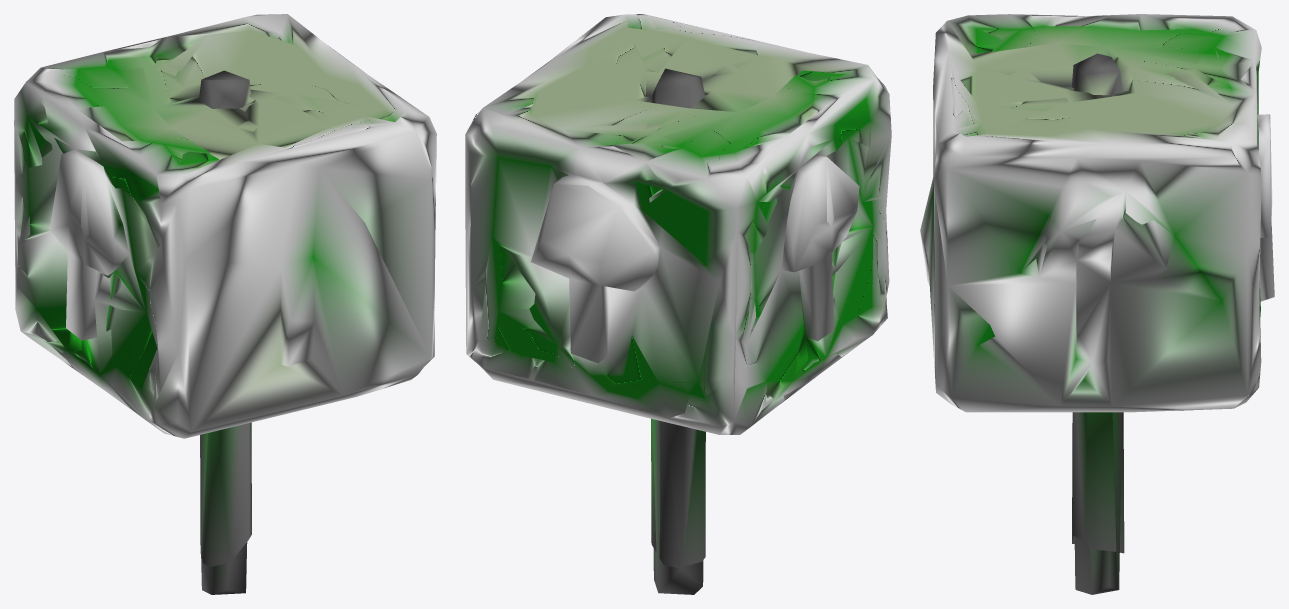
Rendered from gen3d-road-sign-lod1.glb.
The picture shows the model from 3 angles, left to right: view 1: azimuth 30°, elevation 25°; view 2: azimuth 150°, elevation 25°; view 3: azimuth 270°, elevation 25°; orthographic projection. The views are drawn at different scales.
Visible parts, largest first — view 1: part_0; view 2: part_0; view 3: part_0.
Boxes of the visible parts, x1,y1,x2,y2 form: part_0: (14, 14, 436, 594); part_0: (465, 14, 891, 594); part_0: (920, 14, 1274, 594).
Size of the model in its own units: 0.6076 by 0.999 by 0.6124.
